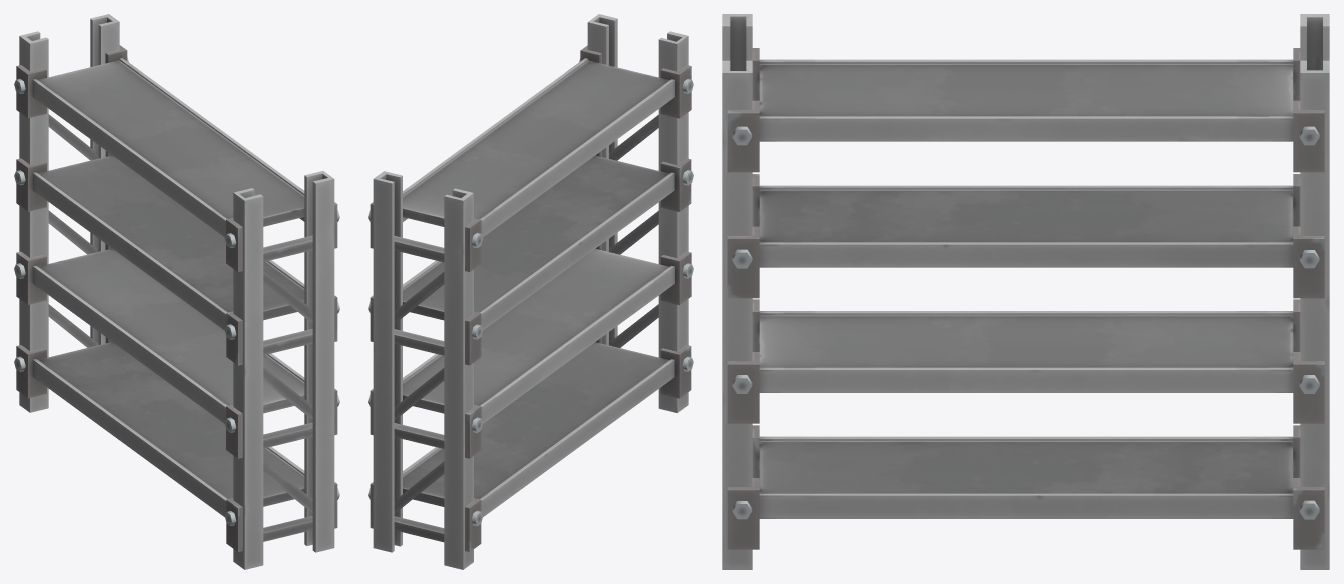
Rendered from Pfb_Shelf.fbx.
The picture shows the model from 3 angles, left to right: view 1: azimuth 30°, elevation 25°; view 2: azimuth 150°, elevation 25°; view 3: azimuth 270°, elevation 25°; orthographic projection. The views are drawn at different scales.
Parts seen in each view (by area): view 1: Mat_Shelf_01_03; view 2: Mat_Shelf_01_03; view 3: Mat_Shelf_01_03.
Boxes of the visible parts, box(x1,y1,x2,y2) form: Mat_Shelf_01_03: box(14, 14, 339, 569); Mat_Shelf_01_03: box(368, 14, 693, 569); Mat_Shelf_01_03: box(722, 14, 1329, 569).
Bounding box in the file's own units: 1.68 × 5.49 × 6.08.
Materials: 1 (1 with a texture image).
